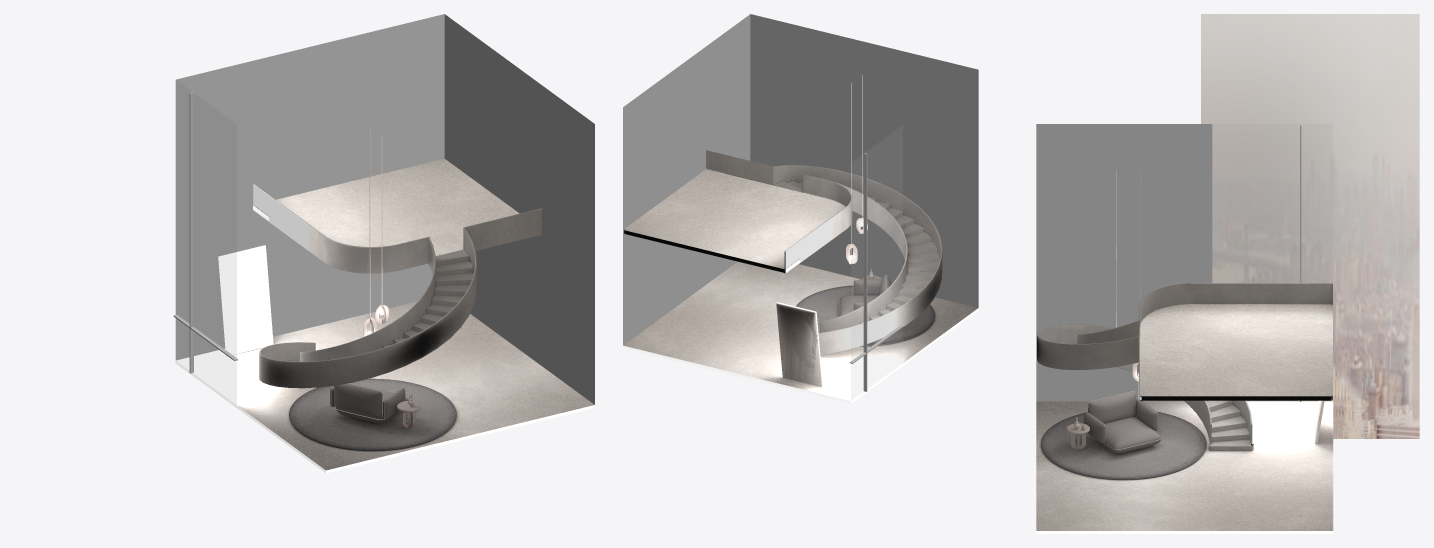
3 views of the same model, side by side, from view 1: azimuth 30°, elevation 25°; view 2: azimuth 150°, elevation 25°; view 3: azimuth 270°, elevation 25° (orthographic). The views are drawn at different scales.
Visible parts, largest first — view 1: House, floor, Stairs, 2nd_floor, carpet, painting, sofa, lighting; view 2: House, floor, Stairs, 2nd_floor, painting, carpet, sofa, lighting; view 3: outside, House, floor, 2nd_floor, Stairs, carpet, sofa.
Boxes of the visible parts, <box> form: House: <box>173,14,594,404</box>; floor: <box>175,302,594,473</box>; Stairs: <box>253,184,542,388</box>; 2nd_floor: <box>253,159,519,255</box>; carpet: <box>289,378,456,450</box>; painting: <box>218,245,273,356</box>; sofa: <box>330,382,407,423</box>; lighting: <box>363,128,388,336</box>; House: <box>623,14,978,391</box>; floor: <box>623,261,978,403</box>; Stairs: <box>706,150,942,355</box>; 2nd_floor: <box>624,169,845,272</box>; painting: <box>776,302,822,387</box>; carpet: <box>796,285,934,346</box>; sofa: <box>839,275,891,315</box>; lighting: <box>846,75,867,264</box>; outside: <box>1201,14,1419,438</box>; House: <box>1036,124,1333,401</box>; floor: <box>1036,401,1333,533</box>; 2nd_floor: <box>1139,304,1332,400</box>; Stairs: <box>1037,283,1332,450</box>; carpet: <box>1041,411,1206,479</box>; sofa: <box>1083,391,1161,453</box>.
Bounding box in the file's own units: 11.79 × 12.54 × 10.24.
